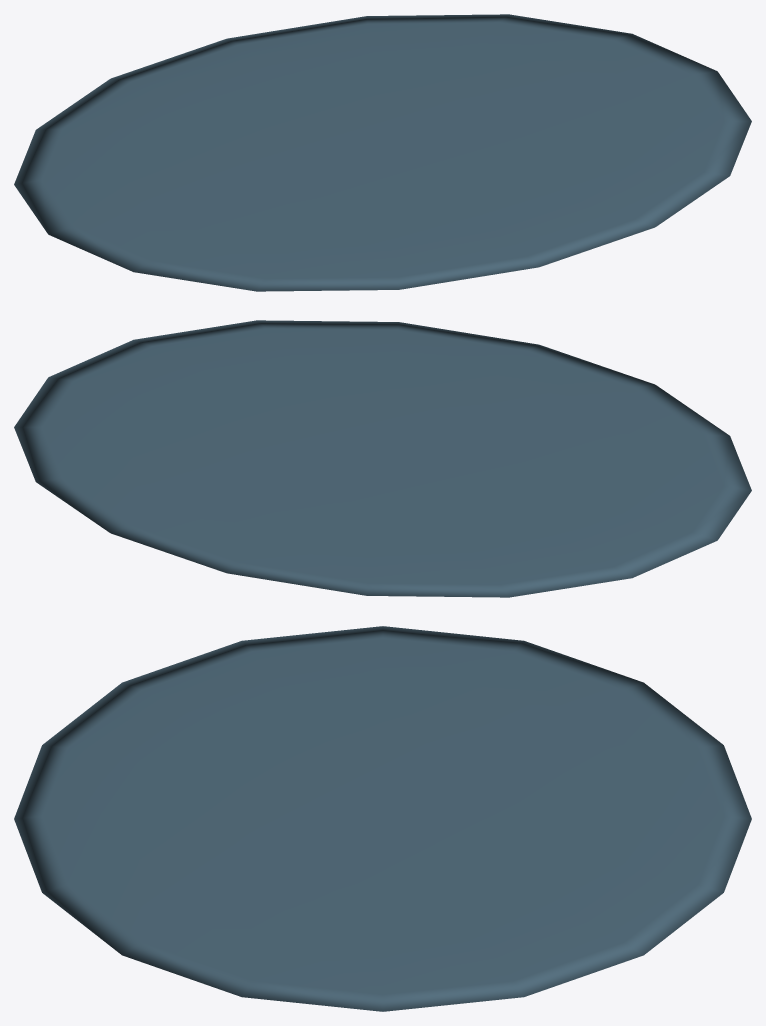
File: shadow.glb
3 renders of one model, top to bottom at view 1: azimuth 30°, elevation 25°; view 2: azimuth 150°, elevation 25°; view 3: azimuth 270°, elevation 25°, orthographic. The views are drawn at different scales.
Visible parts, largest first — view 1: Soft contact shadow; view 2: Soft contact shadow; view 3: Soft contact shadow.
Part boxes in pixels (x1,y1,x2,y2): Soft contact shadow: [14, 14, 751, 291]; Soft contact shadow: [14, 320, 751, 597]; Soft contact shadow: [14, 626, 751, 1011].
Bounding box in the file's own units: 0.94 × 0.016 × 0.76.
